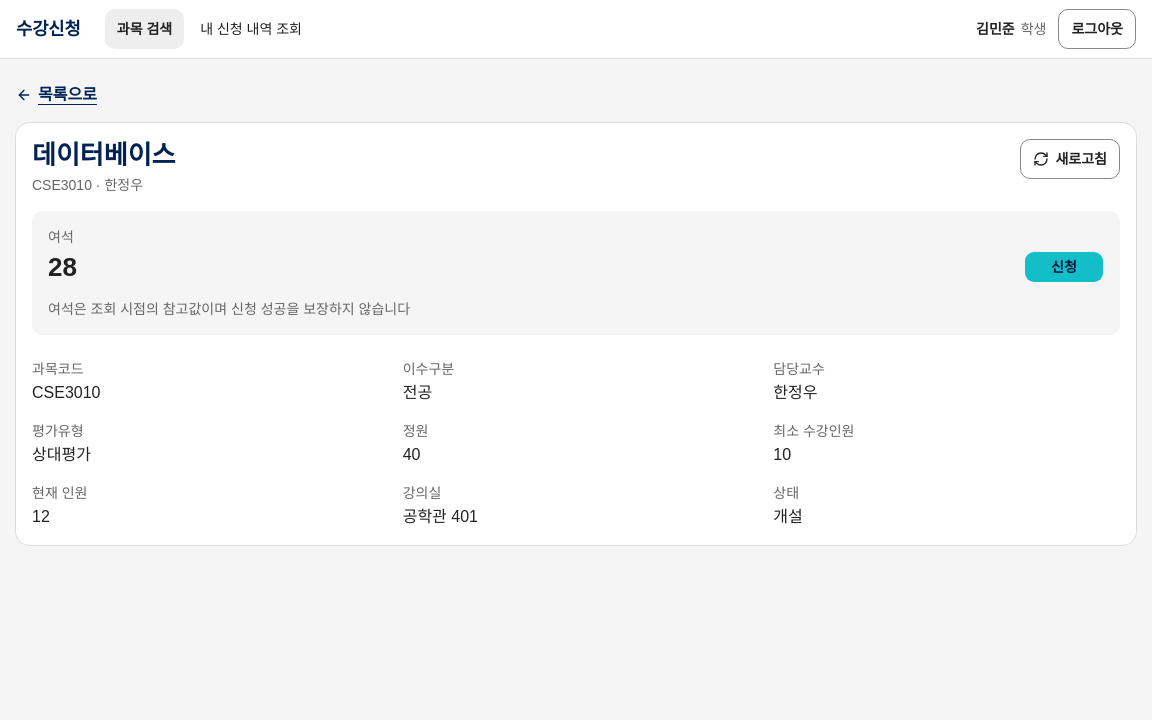
T2-08 폐기된 세션은 로그인으로 돌아간다
The width and height of the screenshot is (1152, 720).
Click the button "새로고침" at (1070, 159), box [1020,139,1120,179]
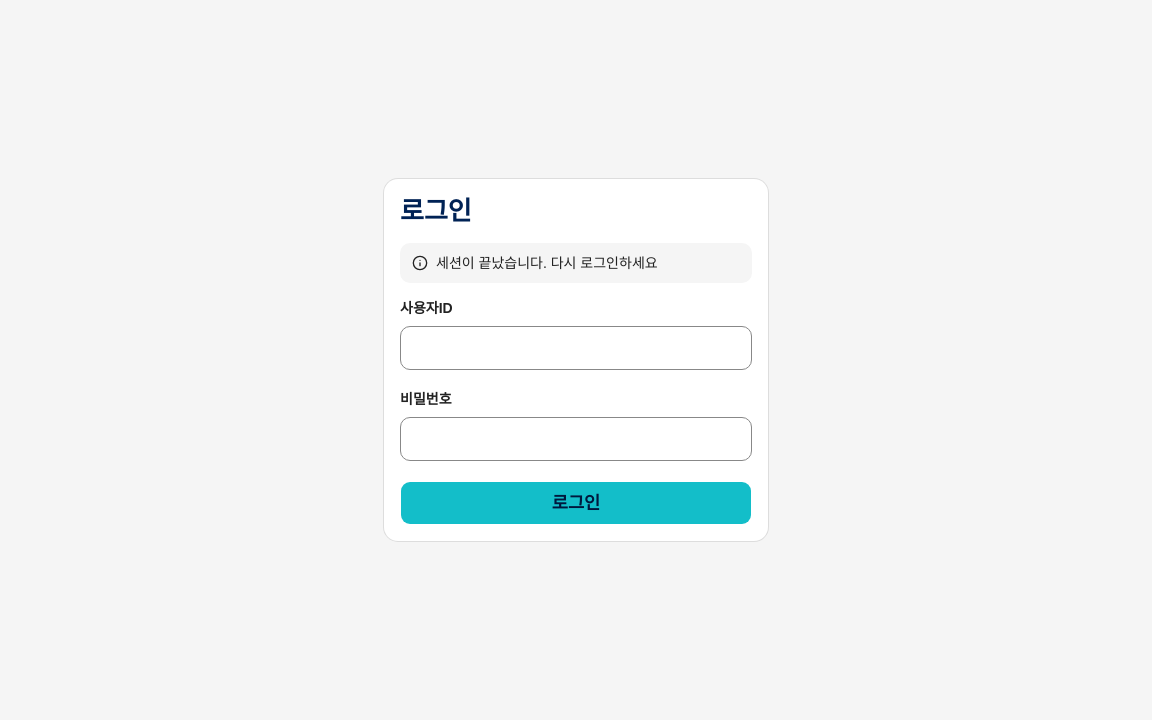
Check: the message with test id "entry-notice" reads "세션이 끝났습니다. 다시 로그인하세요", box [436,255,658,271]
